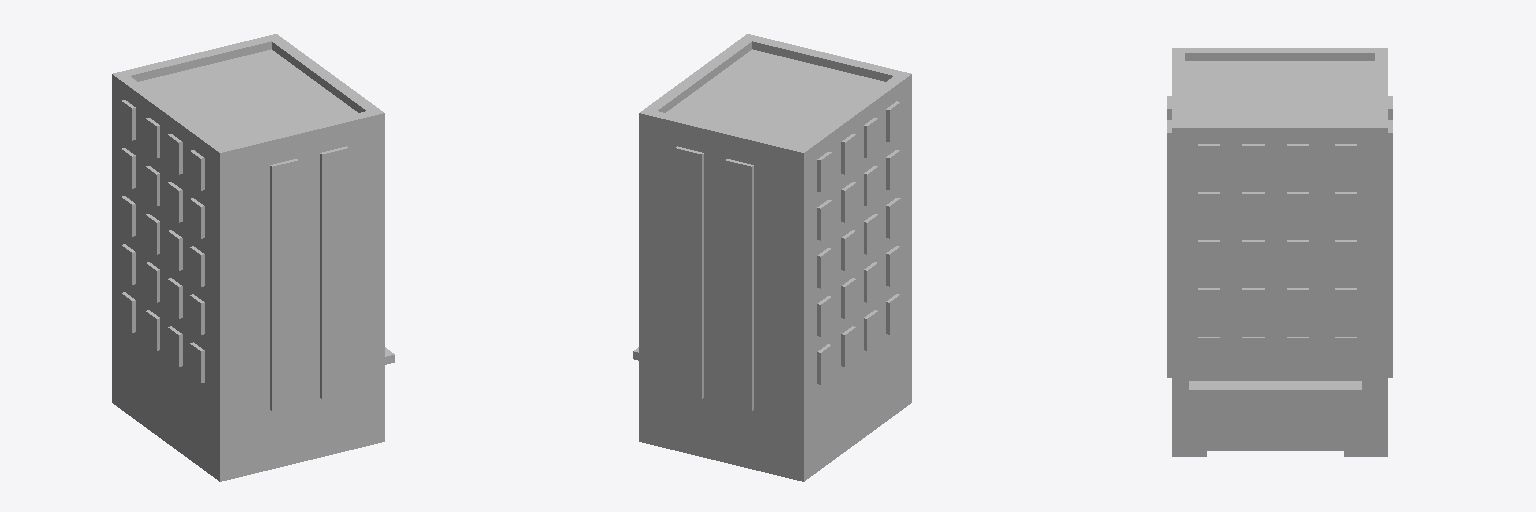
Rendered from bulid_1.obj.
The picture shows the model from 3 angles: view 1: azimuth 30°, elevation 25°; view 2: azimuth 150°, elevation 25°; view 3: azimuth 270°, elevation 25°; orthographic projection.
Size of the model in its own units: 49 by 82 by 51.